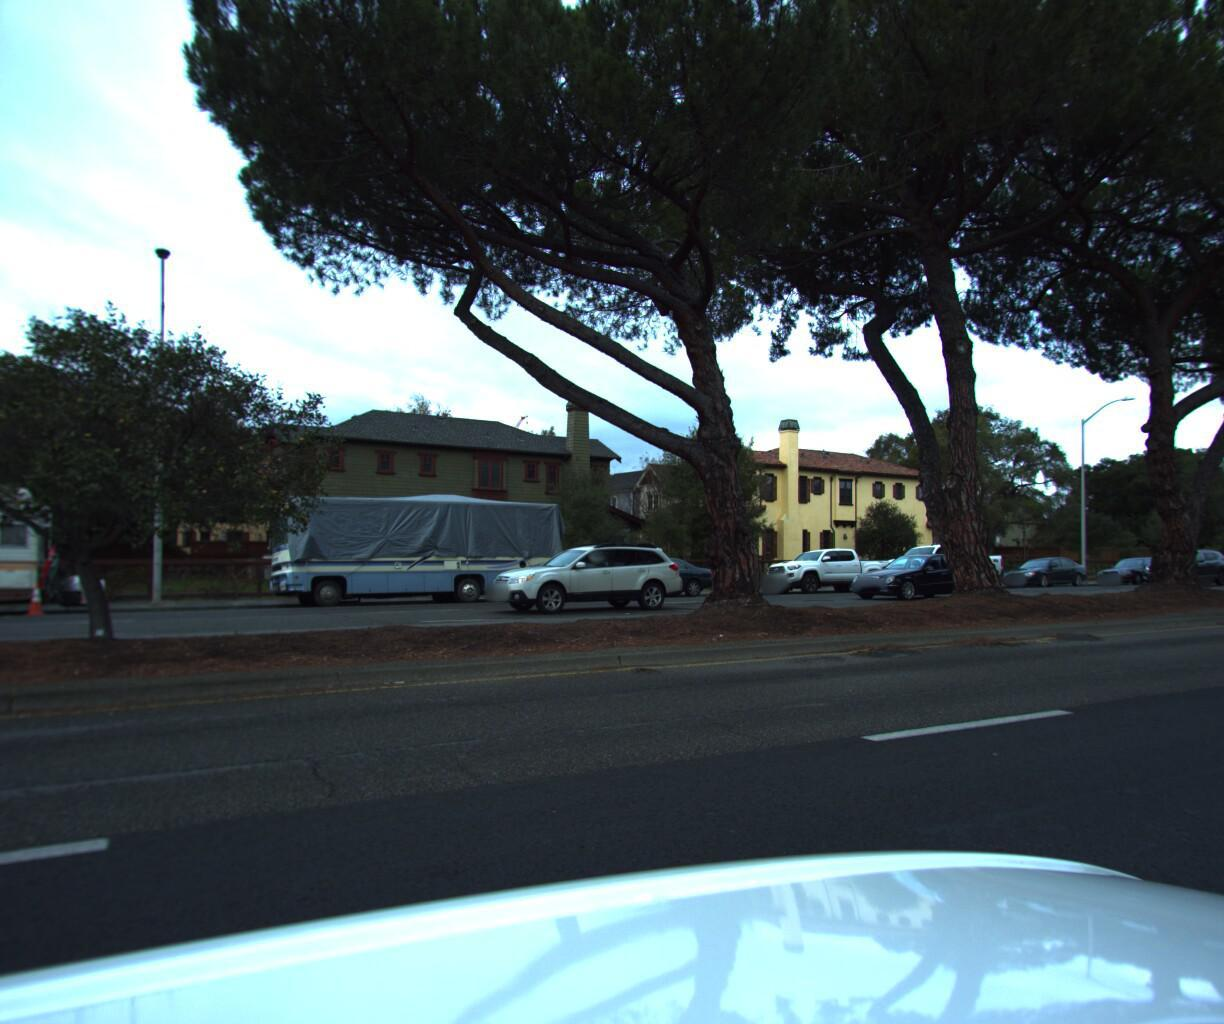car: (481, 538, 690, 612), (866, 533, 1005, 590), (841, 549, 996, 597), (755, 540, 896, 591), (574, 550, 721, 596), (1127, 542, 1224, 581), (989, 549, 1089, 583), (1085, 550, 1178, 579), (1170, 547, 1224, 576)
other_vehicle: (258, 478, 574, 605), (0, 468, 69, 623)
